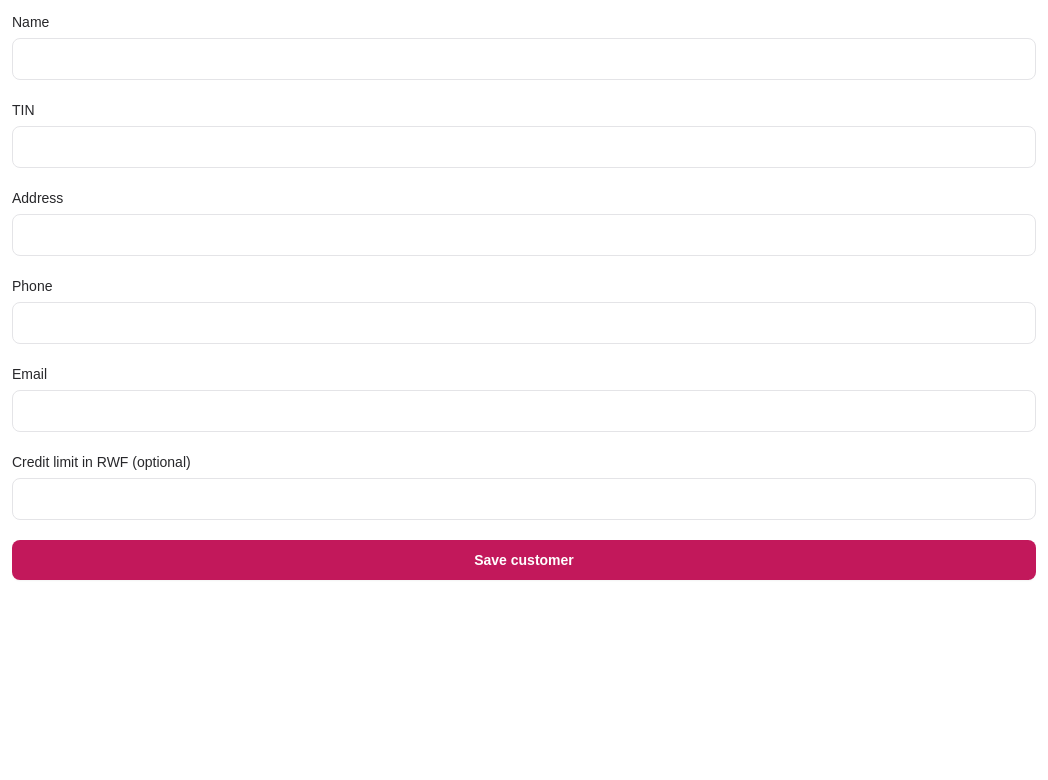
CustomerForm › rejects a credit limit that is not a positive whole number
This screenshot has width=1048, height=780.
Type "Kigali Traders" into the field labelled "Name" at (524, 59), box [12,38,1036,80]
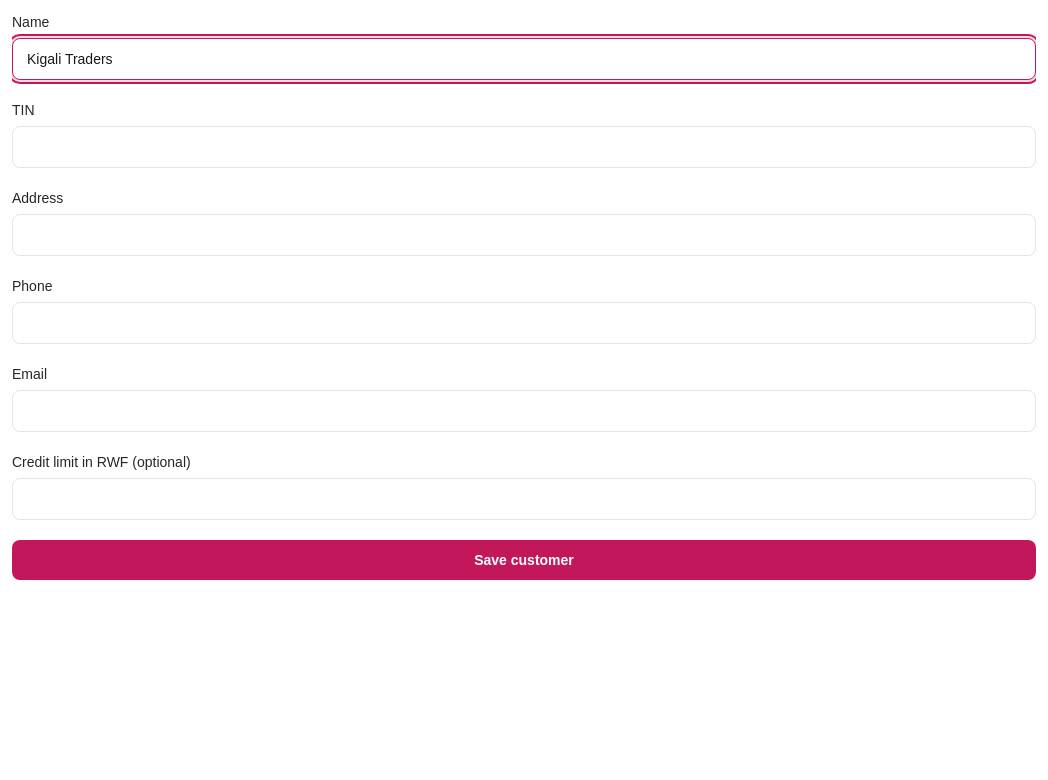
Type "12.5" into the field labelled "Credit limit in RWF (optional)" at (524, 499), box [12,478,1036,520]
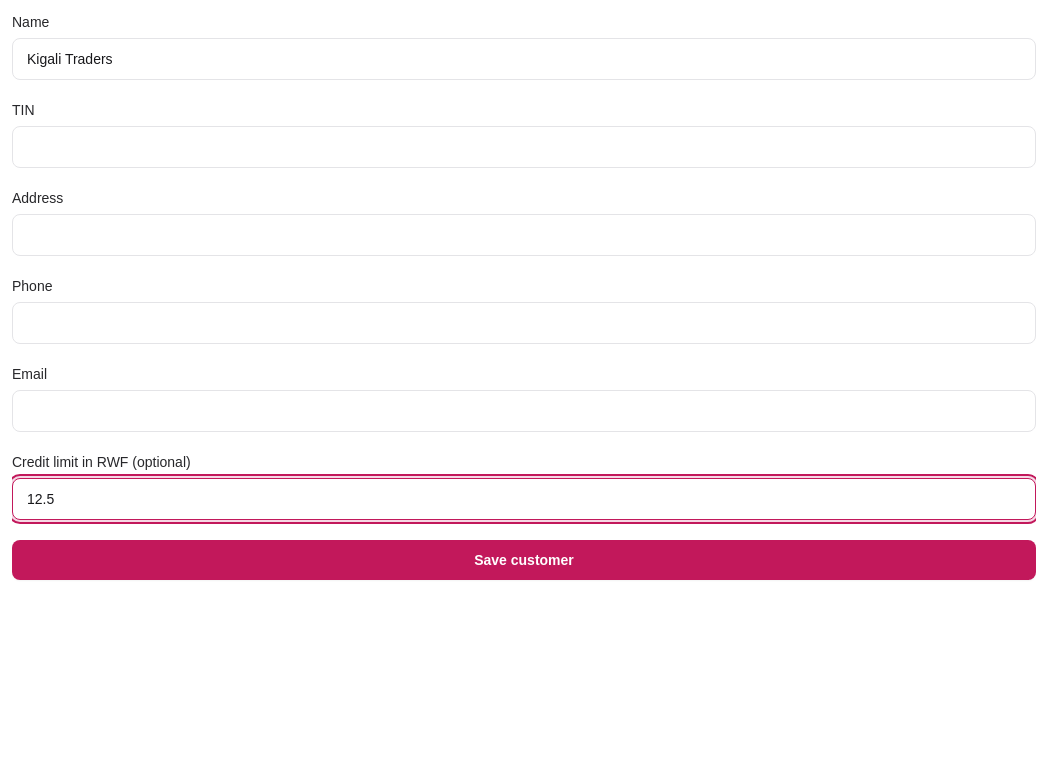
Click the button "Save customer" at (524, 560), box [12,540,1036,580]
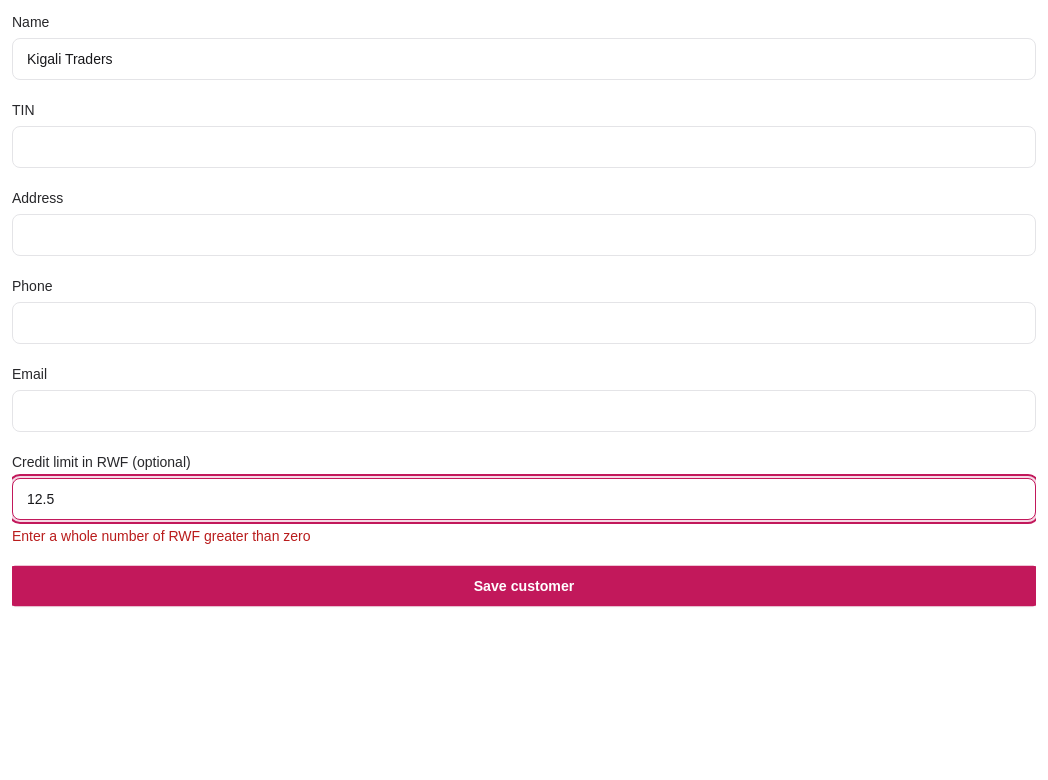
Check: the text "Enter a whole number of RWF greater than zero" is shown, box [12,528,311,544]
